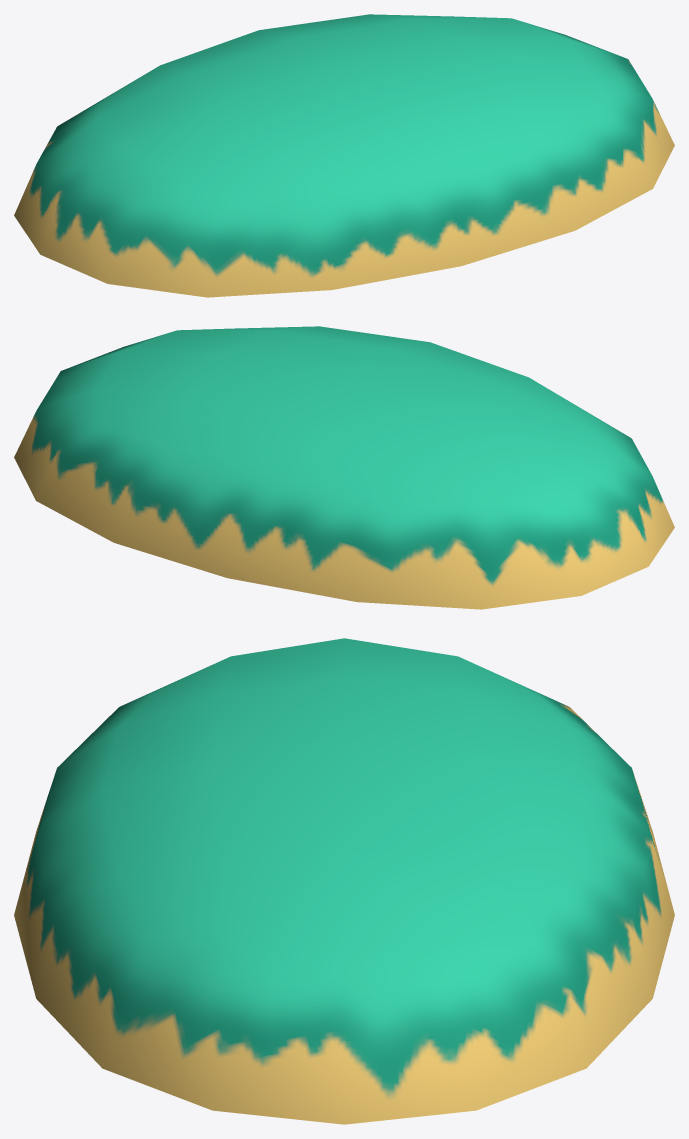
The model's file is Islet002.fbx.
3 renders of one model, top to bottom at view 1: azimuth 30°, elevation 25°; view 2: azimuth 150°, elevation 25°; view 3: azimuth 270°, elevation 25°, orthographic. The views are drawn at different scales.
Visible parts, largest first — view 1: kojima2; view 2: kojima2; view 3: kojima2.
Part boxes in pixels (bbox=[...]): kojima2: bbox=[14, 14, 674, 297]; kojima2: bbox=[14, 326, 674, 609]; kojima2: bbox=[14, 638, 674, 1124].
Size of the model in its own units: 3.99 by 0.7268 by 2.66.
1 material, 1 textured.
